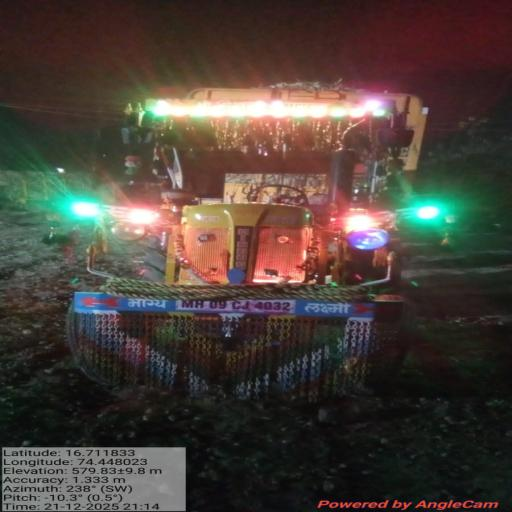number_plate: (169, 294, 301, 322)
